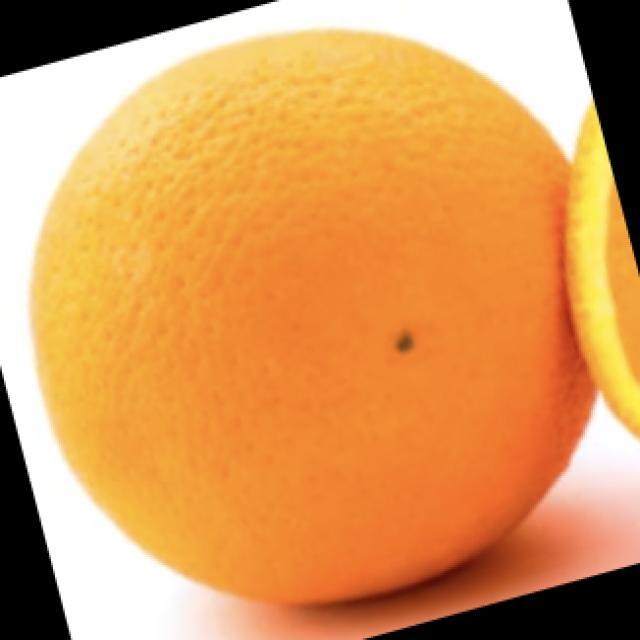matang: (32, 31, 593, 600)
